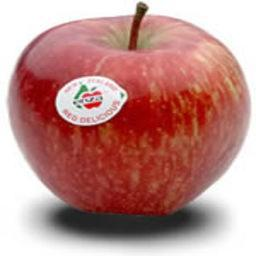apple: (4, 7, 251, 219)
